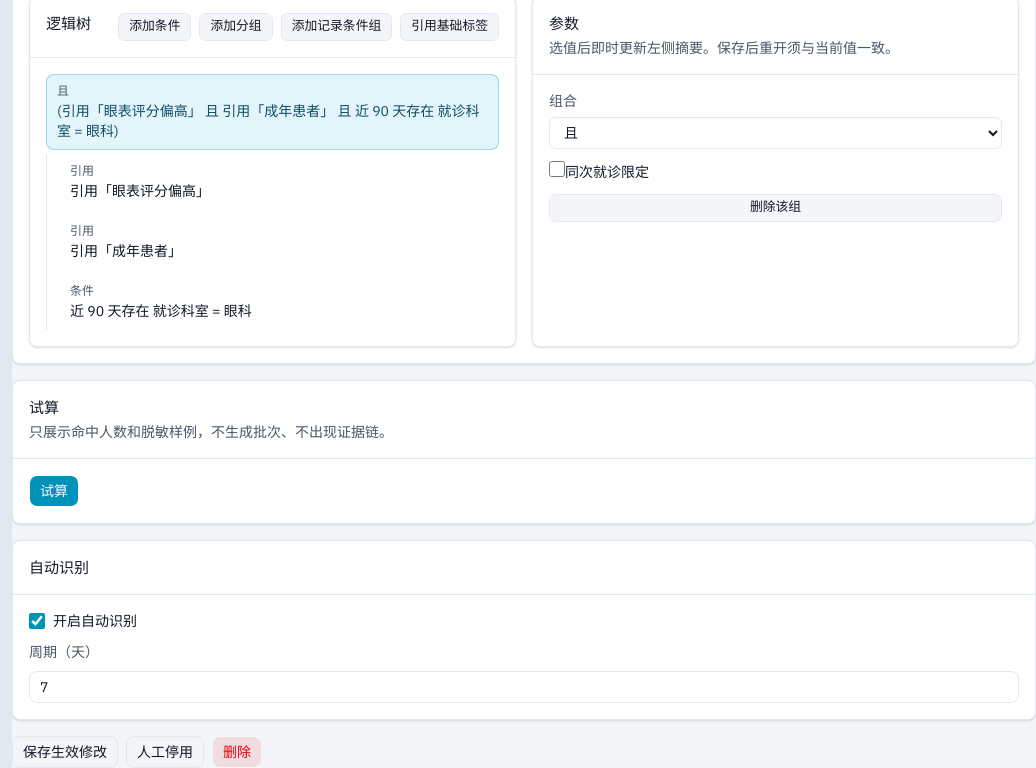
it: 标签中心与指标库权限／试算 › 有权限显示新建，试算走真实引擎命中 5 人且不含李*
(page scrolled)
Step 1. Click the button "试算" → (54, 491), box [29, 475, 79, 507]
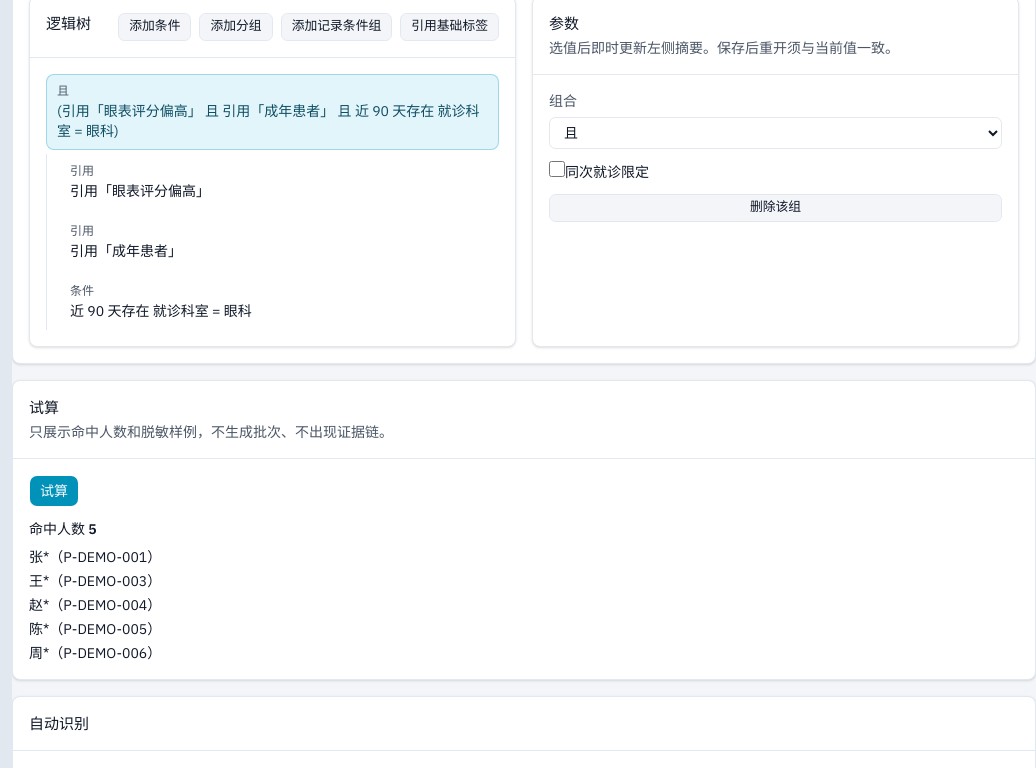
Result: the text with test id "trial-count" reads "5" at [88, 520, 97, 538]
